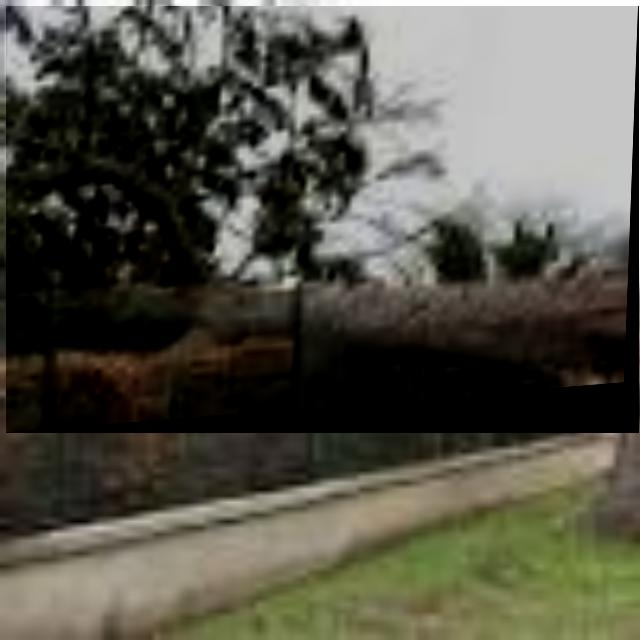Fallen Tree: (6, 6, 640, 434)
